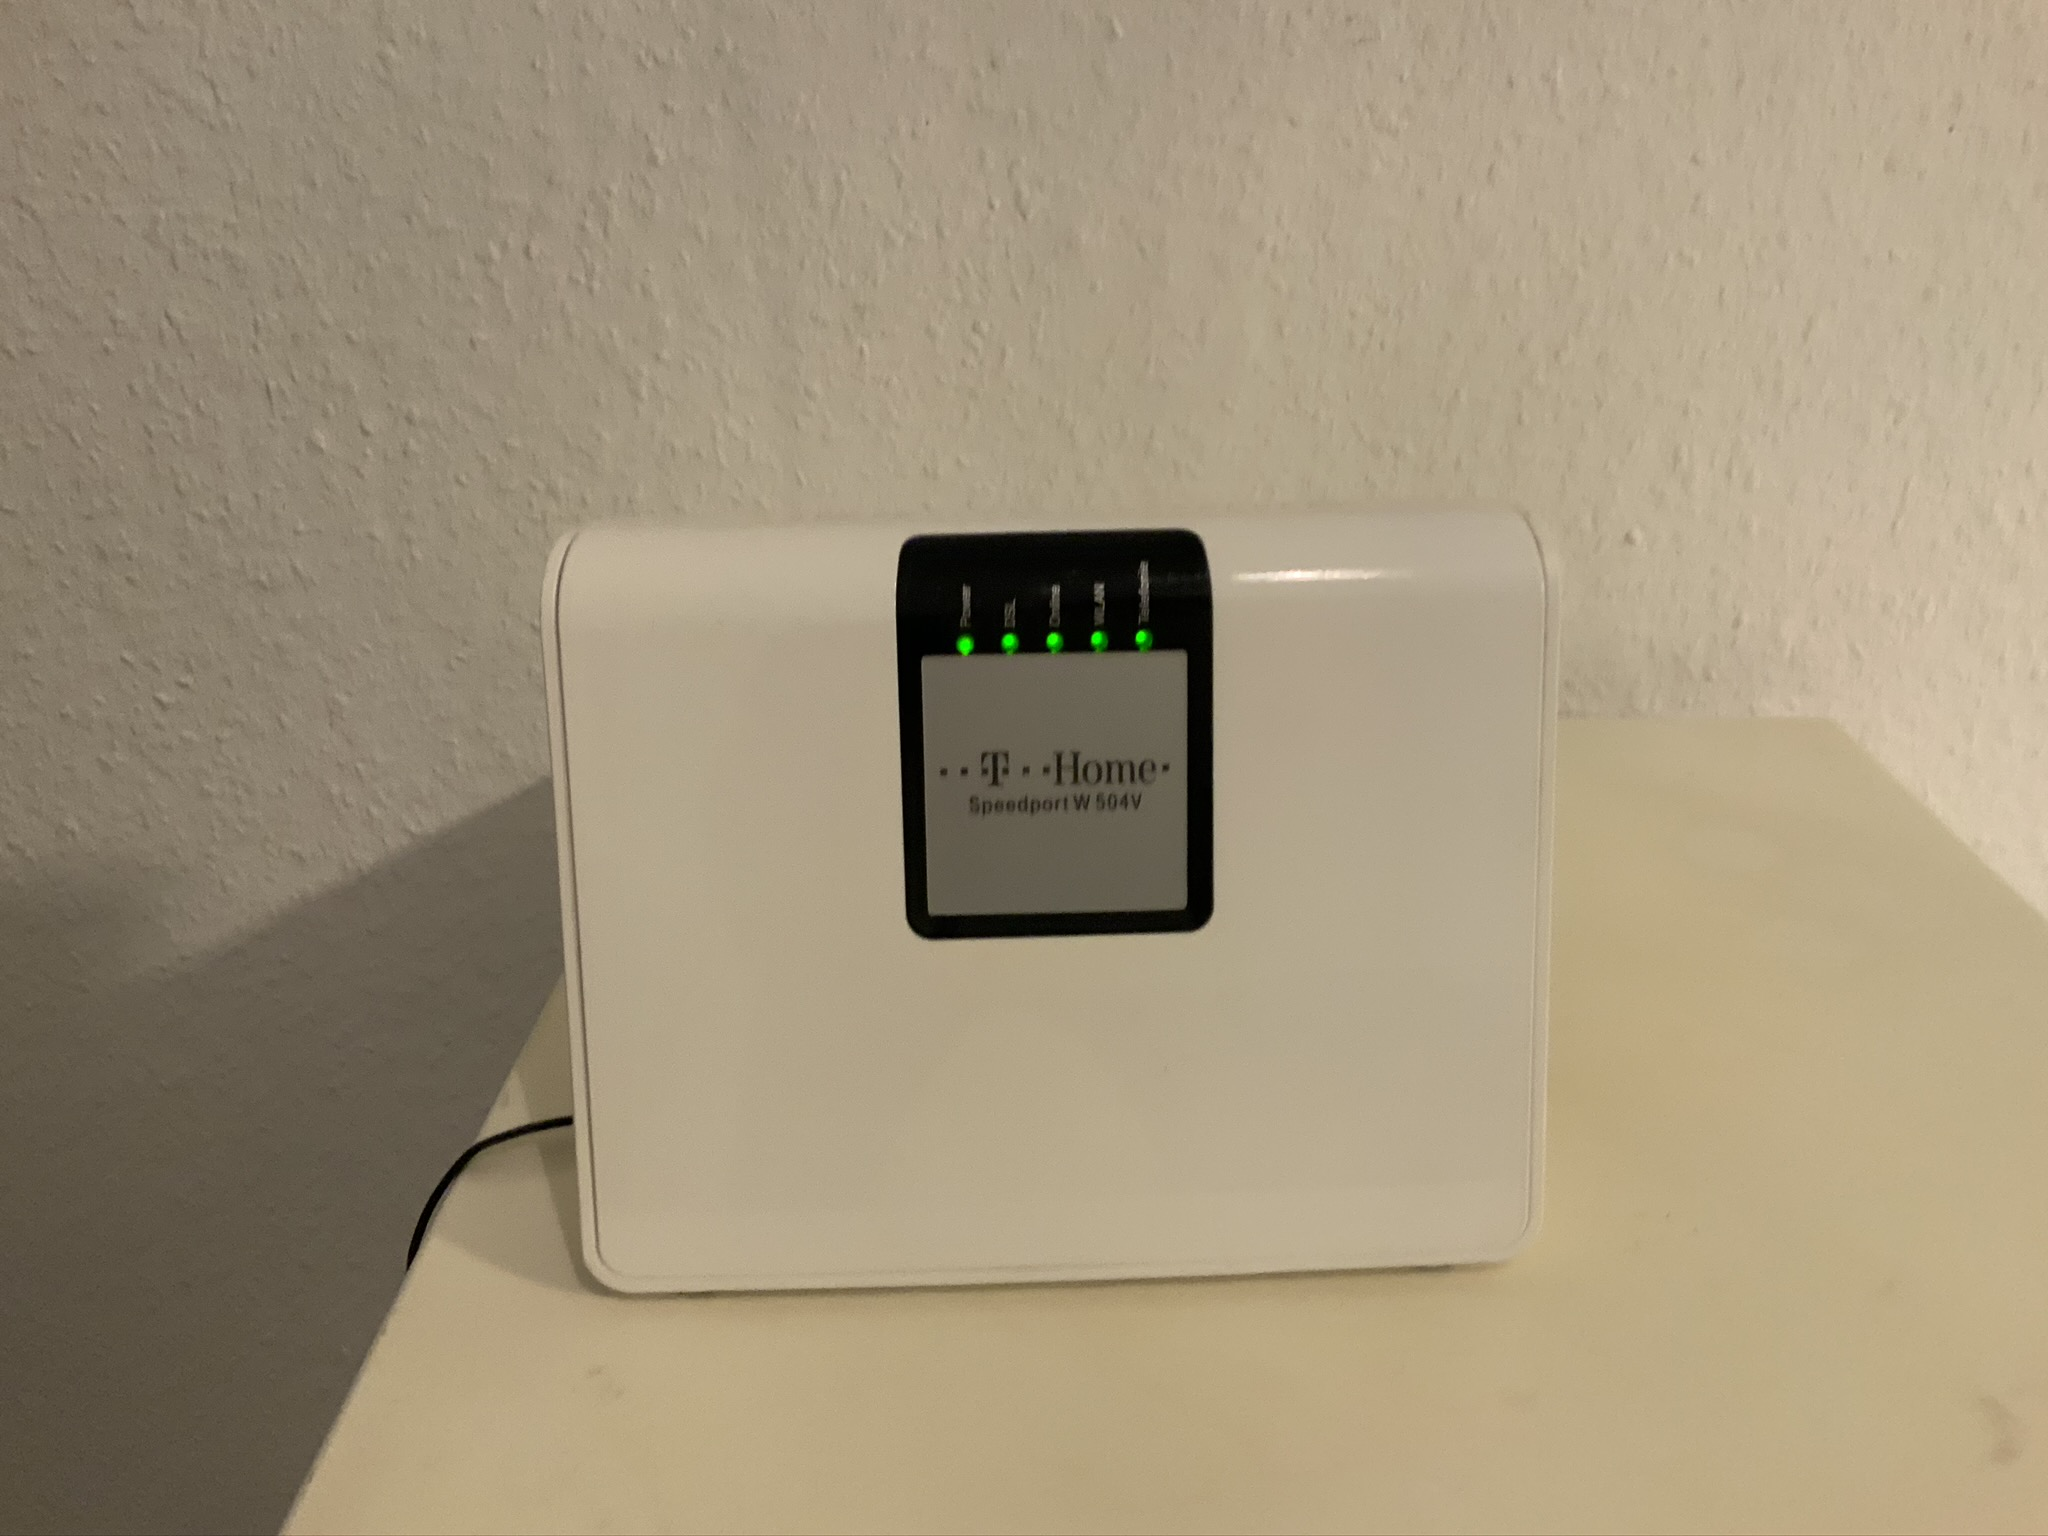Router2: (535, 486, 1584, 1300)
